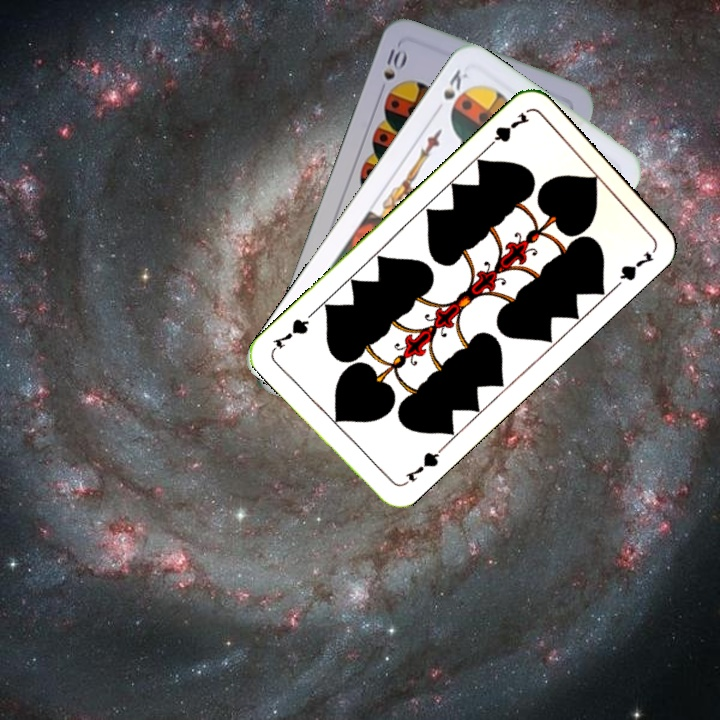G7: (481, 108, 532, 153), (398, 444, 445, 489)
S10: (379, 44, 409, 83)
SK: (439, 65, 473, 103)
